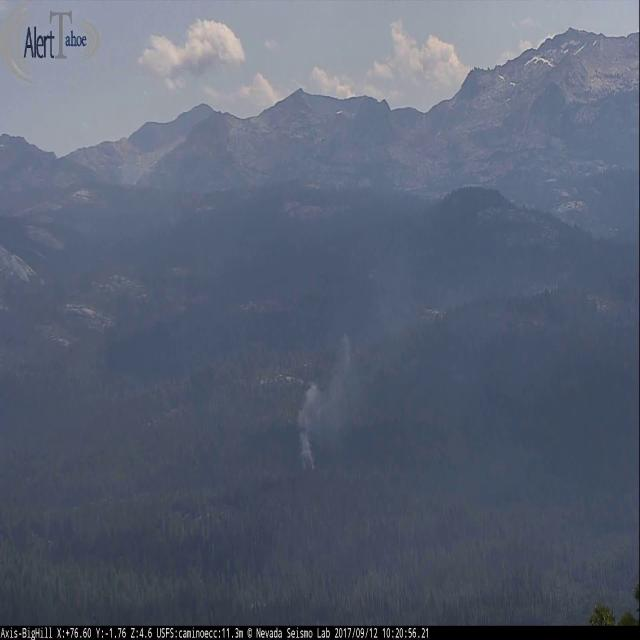smoke: (300, 201, 419, 467)
